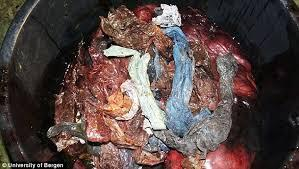Plastic bag: (62, 13, 234, 157)
